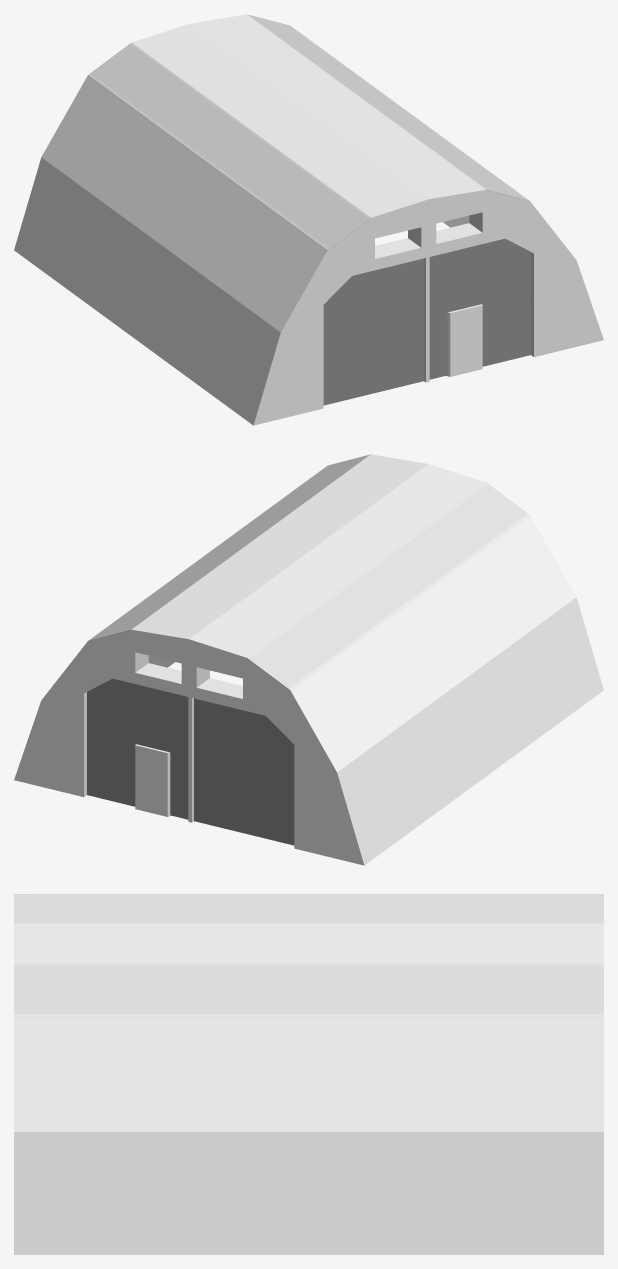
Rendered from hangar.fbx.
3 views of the same model, one above another, from view 1: azimuth 30°, elevation 25°; view 2: azimuth 150°, elevation 25°; view 3: azimuth 270°, elevation 25° (orthographic). The views are drawn at different scales.
Visible parts, largest first — view 1: Hangar; view 2: Hangar; view 3: Hangar.
Part boxes in pixels (x1=…): Hangar: x1=14, y1=14, x2=603, y2=425; Hangar: x1=14, y1=454, x2=603, y2=865; Hangar: x1=14, y1=894, x2=603, y2=1254.
Bounding box in the file's own units: 500 × 251 × 592.
1 material, 1 textured.
